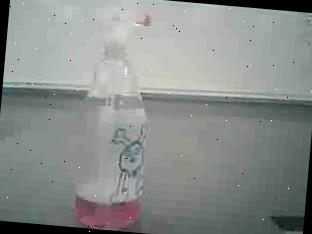hazard: (58, 0, 174, 234)
